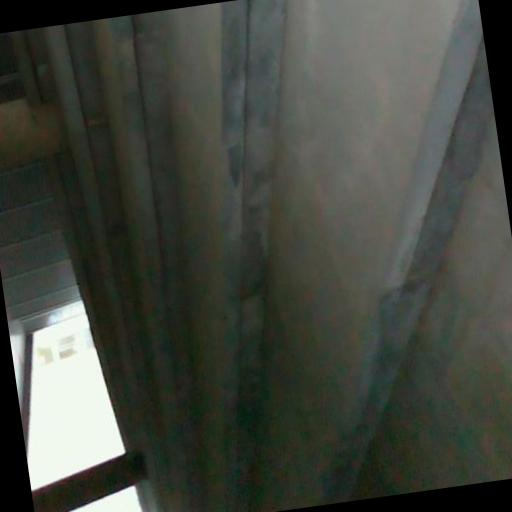stairs: (45, 0, 491, 511)
